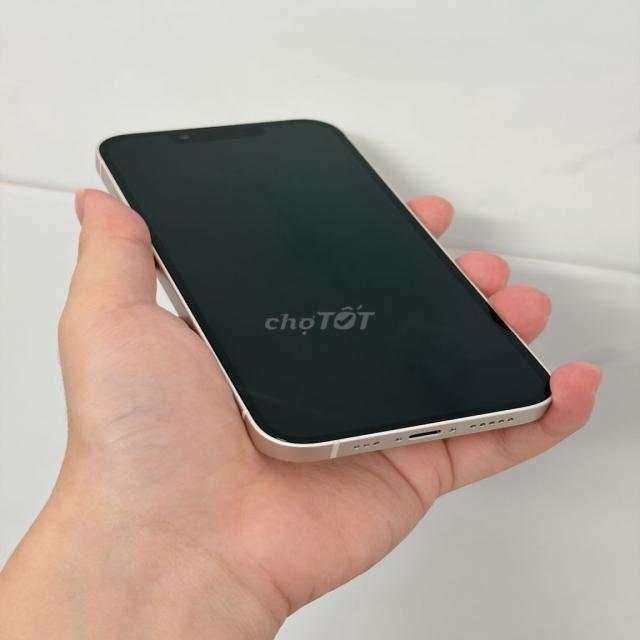gen_12_13: (95, 114, 561, 467)
